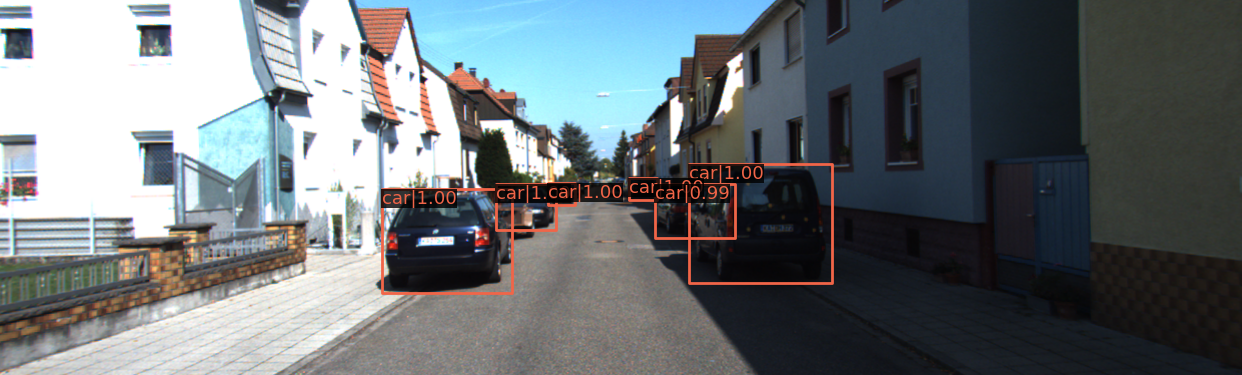car: (690, 166, 828, 288), (383, 192, 514, 299), (654, 186, 728, 237), (501, 188, 555, 232), (548, 184, 573, 206), (630, 180, 656, 201)
